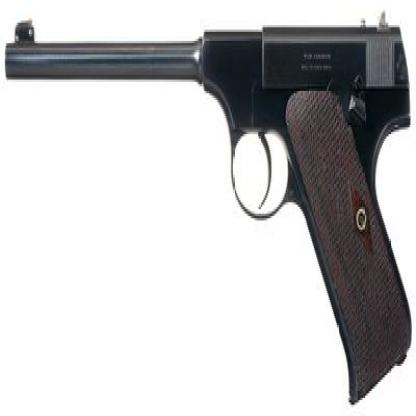Guns: (3, 0, 415, 414)
